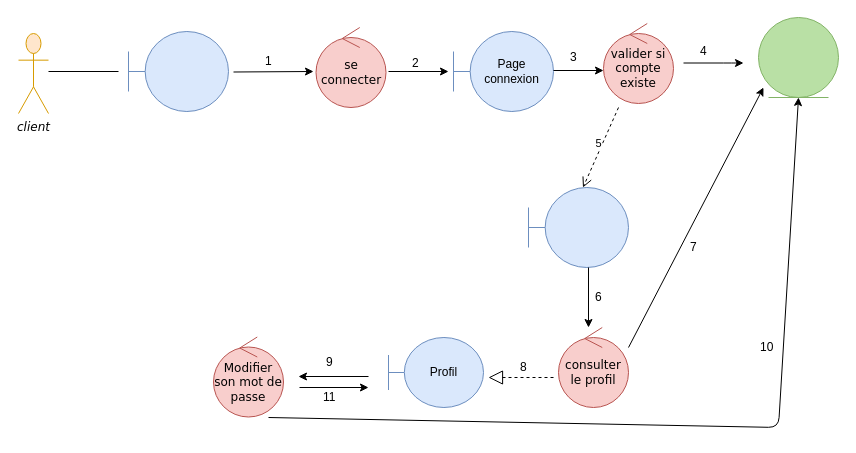
Image size: 856x453. Some labels were removed from this diagram. The centre of each missing label's shape, as x and y in pixels:
"accueil" belongs at point 178,71.
"Page connecté" belongs at point 578,227.
"table clients" belongs at point 798,57.
